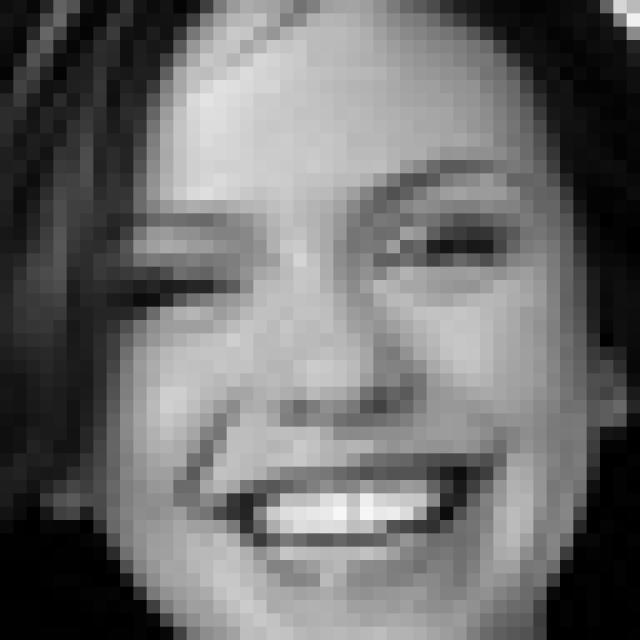happy: (107, 146, 550, 605)
